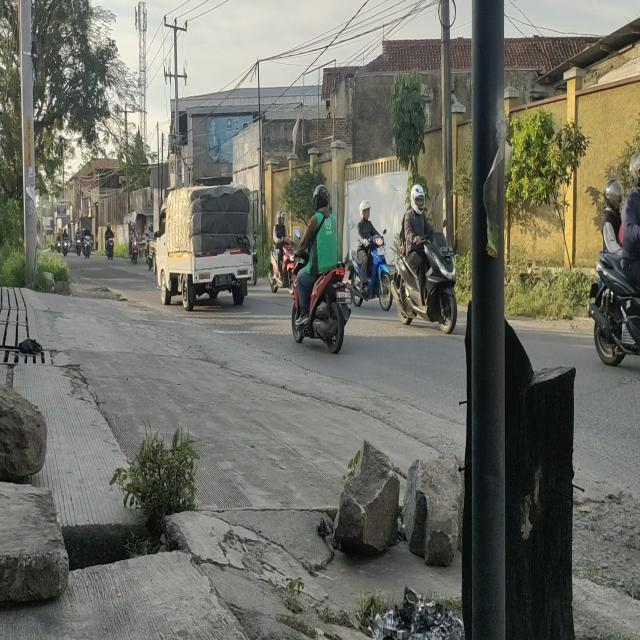helmet: (603, 178, 623, 212), (410, 184, 426, 214), (629, 152, 640, 186), (315, 185, 329, 211), (359, 200, 370, 221), (278, 210, 286, 226)
